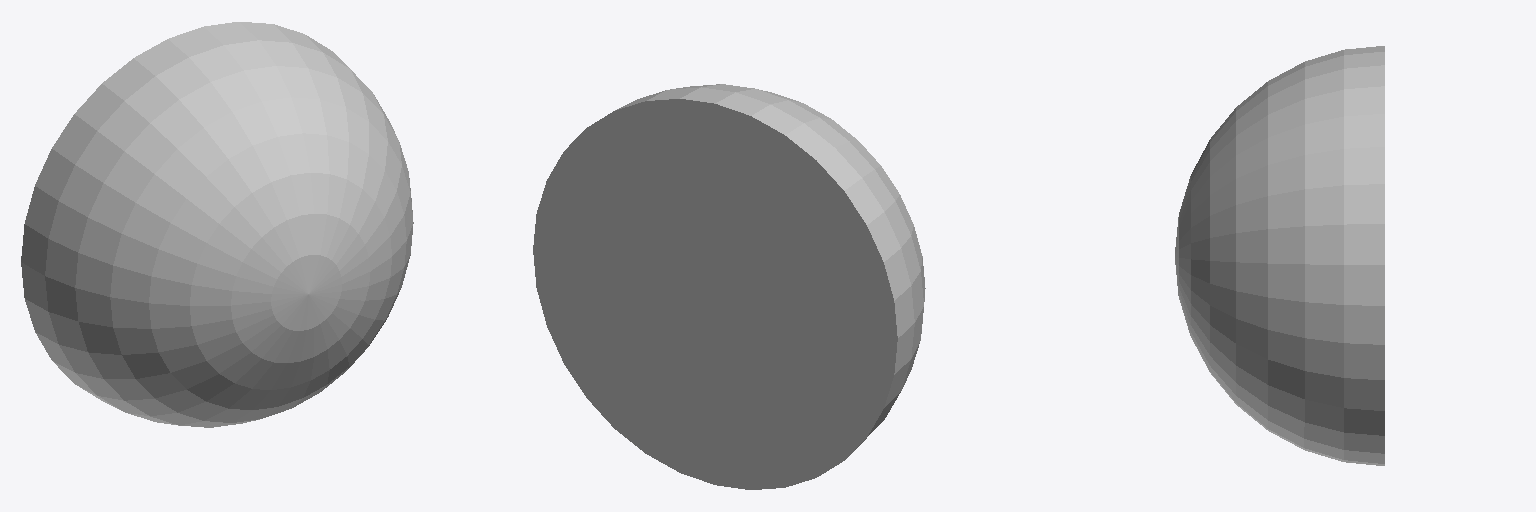
File: rightHalf.obj
The picture shows the model from 3 angles: view 1: azimuth 30°, elevation 25°; view 2: azimuth 150°, elevation 25°; view 3: azimuth 270°, elevation 25°; orthographic projection.
Size of the model in its own units: 2 by 2 by 1.